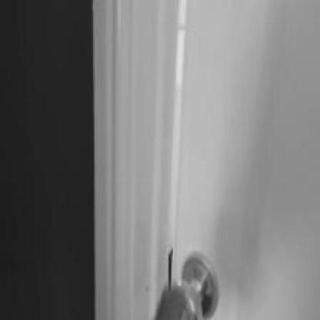other: (150, 243, 216, 314)
